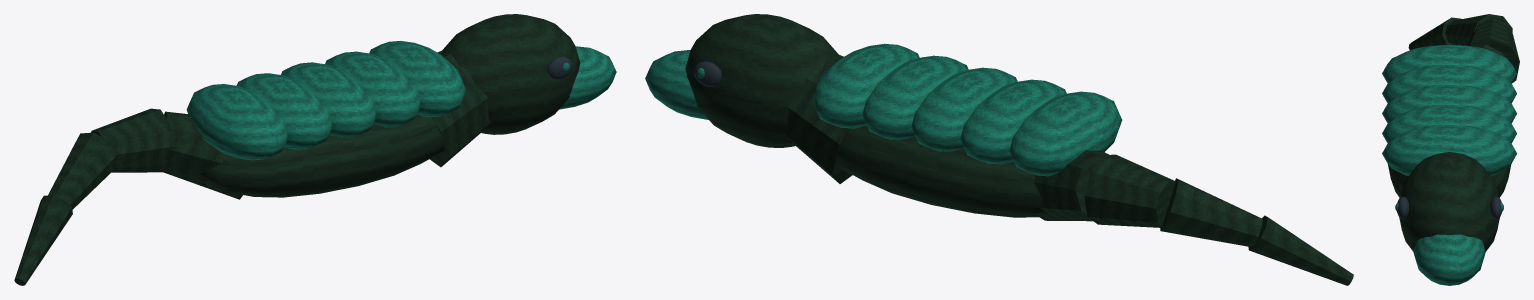
File: hostil-5.glb
3 renders of one model, left to right at view 1: azimuth 30°, elevation 25°; view 2: azimuth 150°, elevation 25°; view 3: azimuth 270°, elevation 25°, orthographic. The views are drawn at different scales.
Visible parts, largest first — view 1: Tronco.017, Focinho.011, Olho.011; view 2: Tronco.017, Focinho.011, Olho.011; view 3: Focinho.011, Tronco.017, Olho.011.
Part boxes in pixels (box(x1,y1,x2,y2)): Tronco.017: box(14, 14, 580, 285); Focinho.011: box(186, 41, 616, 160); Olho.011: box(547, 56, 572, 79); Tronco.017: box(685, 14, 1353, 285); Focinho.011: box(645, 43, 1122, 176); Olho.011: box(693, 61, 721, 86); Focinho.011: box(1382, 45, 1516, 285); Tronco.017: box(1388, 14, 1519, 251); Olho.011: box(1397, 196, 1501, 219).
Size of the model in its own units: 1.66 by 0.3324 by 0.3469.
Materials: 3 (2 with a texture image).
